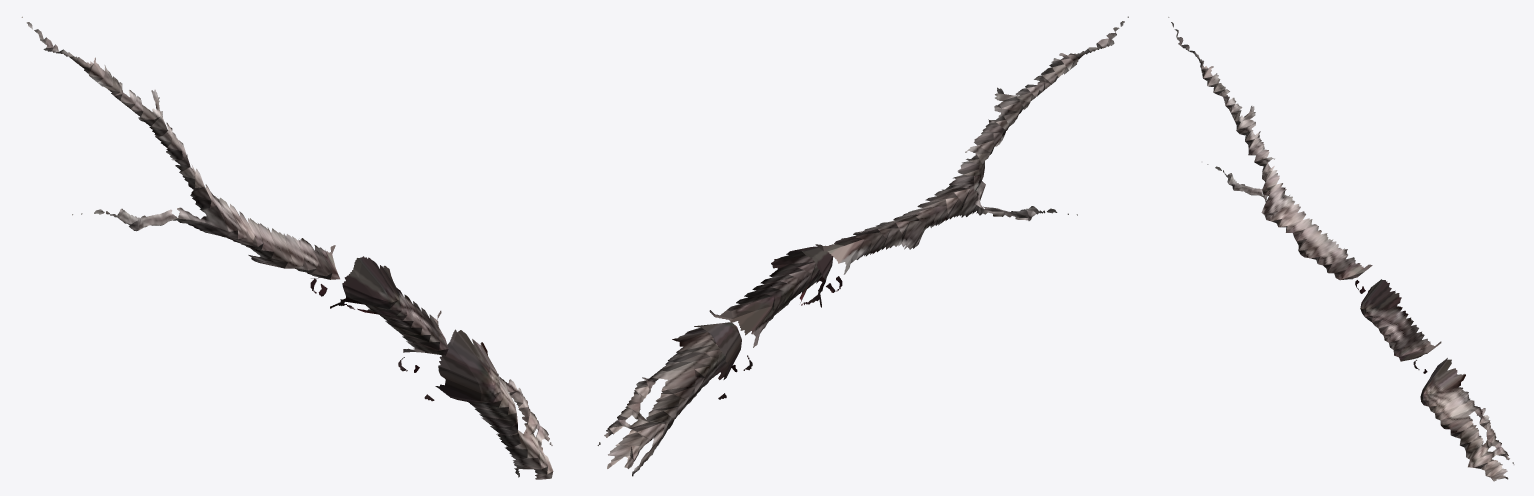
The model's file is prop_branch.obj.
The picture shows the model from 3 angles, left to right: view 1: azimuth 30°, elevation 25°; view 2: azimuth 150°, elevation 25°; view 3: azimuth 330°, elevation 25°; orthographic projection. The views are drawn at different scales.
Visible parts, largest first — view 1: prop_branch; view 2: prop_branch; view 3: prop_branch.
Boxes of the visible parts, x1,y1,x2,y2 form: prop_branch: [21, 16, 553, 479]; prop_branch: [597, 16, 1128, 476]; prop_branch: [1168, 17, 1514, 481].
Size of the model in its own units: 1.36 by 1.4 by 0.1772.
Materials: 1 (1 with a texture image).
